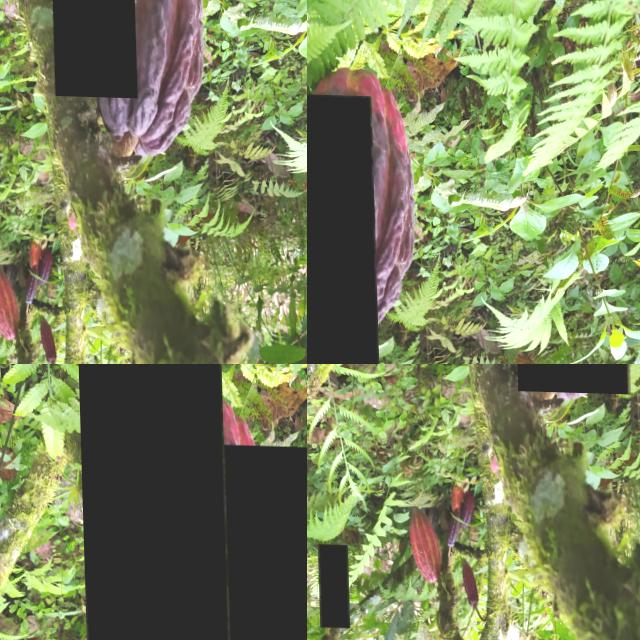Fitoftora: (307, 91, 376, 364), (45, 0, 135, 96), (315, 545, 346, 628)
Monilia: (76, 364, 229, 640), (172, 441, 307, 640)
Sana: (405, 504, 439, 581), (459, 558, 476, 607), (455, 487, 472, 531), (448, 478, 465, 515), (442, 506, 456, 546)
